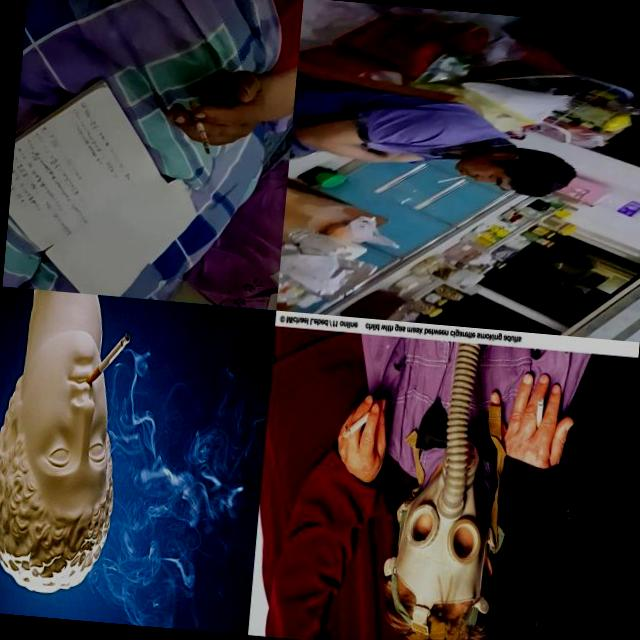smoke: (86, 328, 132, 388), (184, 100, 215, 154), (342, 406, 378, 442), (437, 171, 468, 186), (536, 395, 544, 428)
